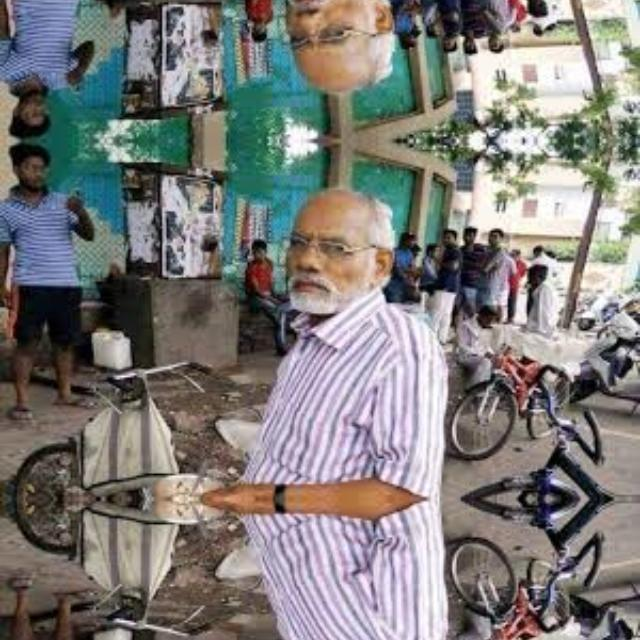person: (249, 184, 447, 498), (249, 498, 447, 640), (249, 0, 447, 96)
